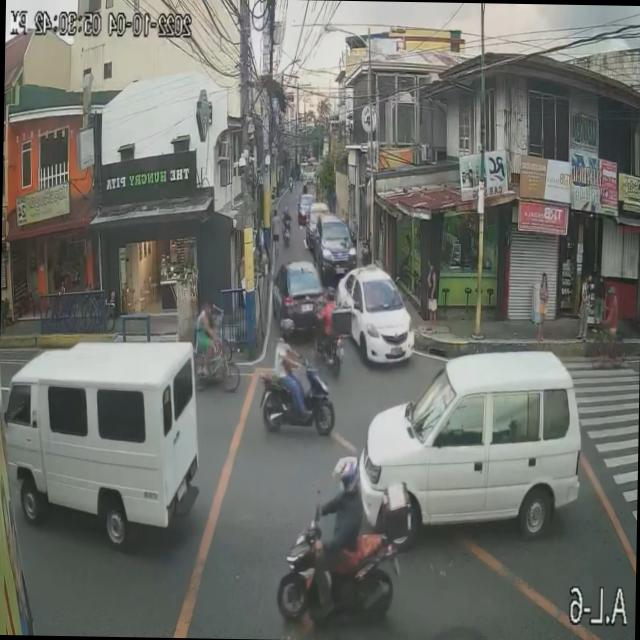full: (331, 454, 359, 499)
half: (278, 316, 296, 344)
